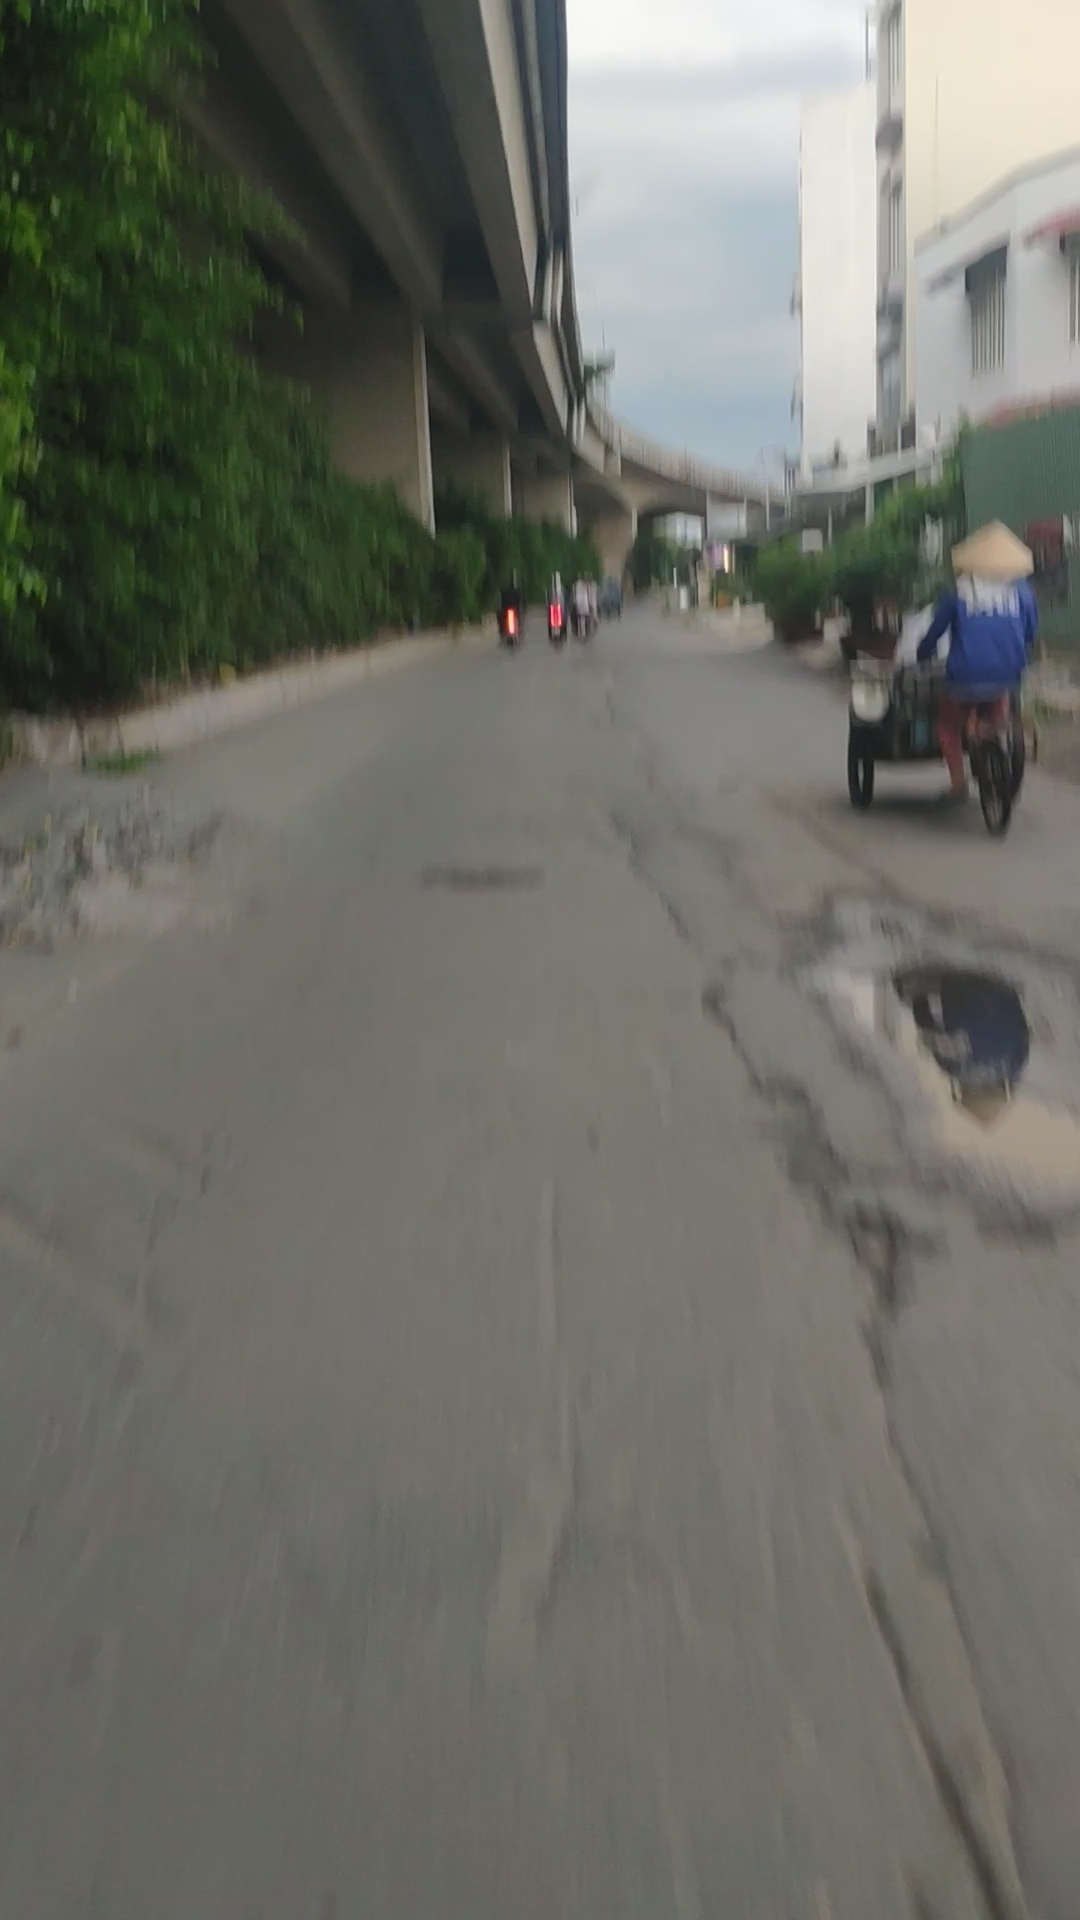hole: (795, 930, 1058, 1139), (806, 1193, 936, 1329)
